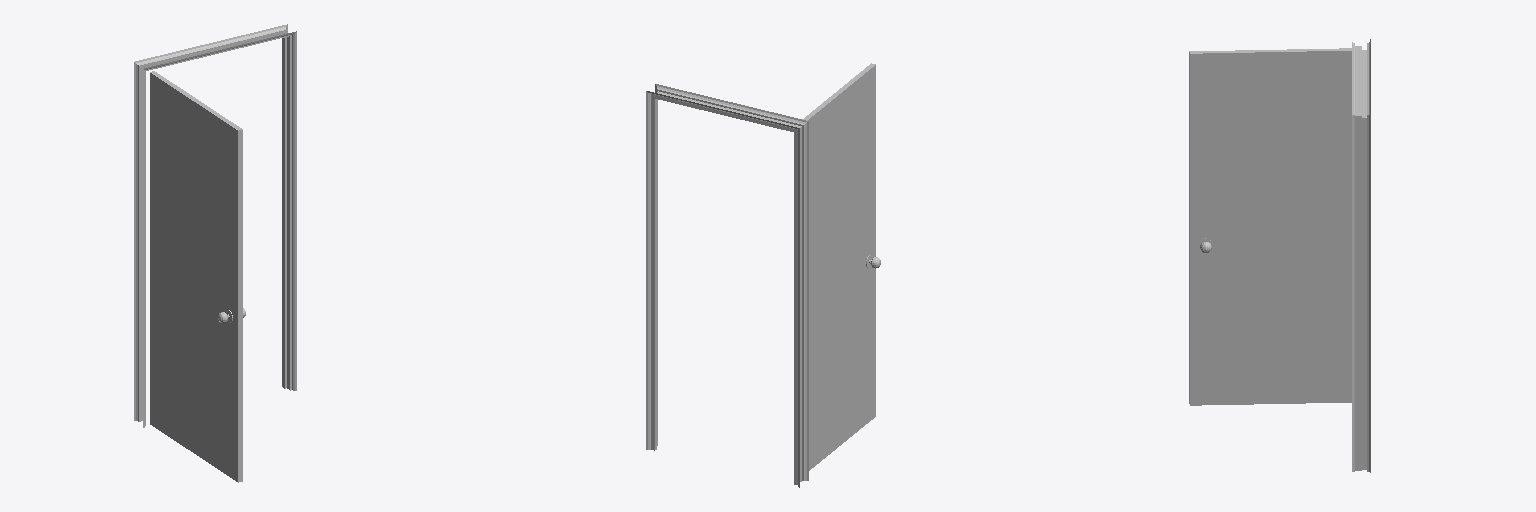
The model's file is mdl_door_01_open.obj.
3 views of the same model, side by side, from view 1: azimuth 30°, elevation 25°; view 2: azimuth 150°, elevation 25°; view 3: azimuth 270°, elevation 25° (orthographic).
Parts seen in each view (by area): view 1: Object003; view 2: Object003; view 3: Object003.
Part boxes in pixels (x1,y1,x2,y2): Object003: (134, 24, 296, 482); Object003: (646, 63, 880, 487); Object003: (1189, 39, 1370, 472).
Bounding box in the file's own units: 94 × 210 × 95.86.